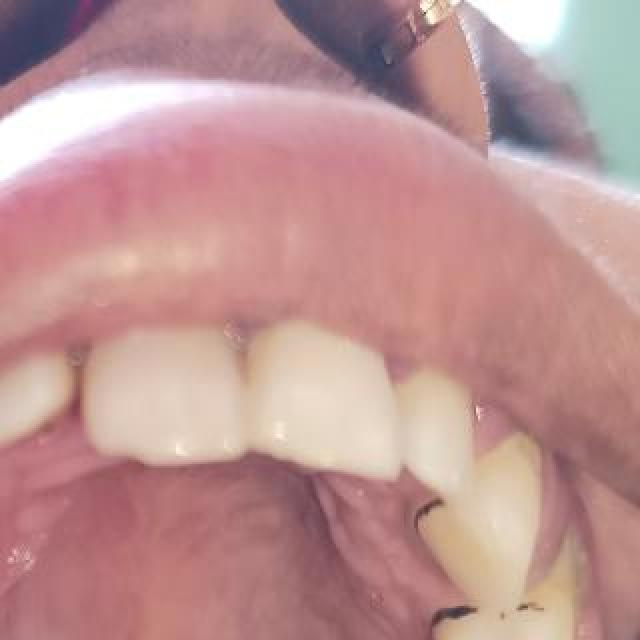spacing: (54, 374, 112, 458), (0, 382, 18, 534)
stains: (391, 445, 491, 601), (420, 590, 580, 640)
